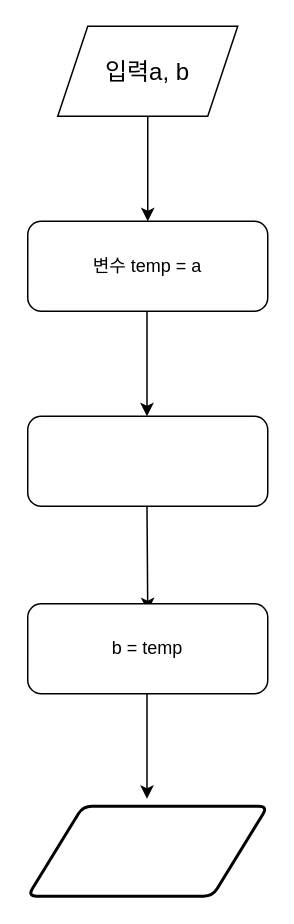
Some shapes in this 294 by 924 pixel diagram are drawn without their labels. Each missing label, with the box of its shape:
a = b: (26, 415, 268, 506)
출력 a, b: (26, 804, 268, 897)
